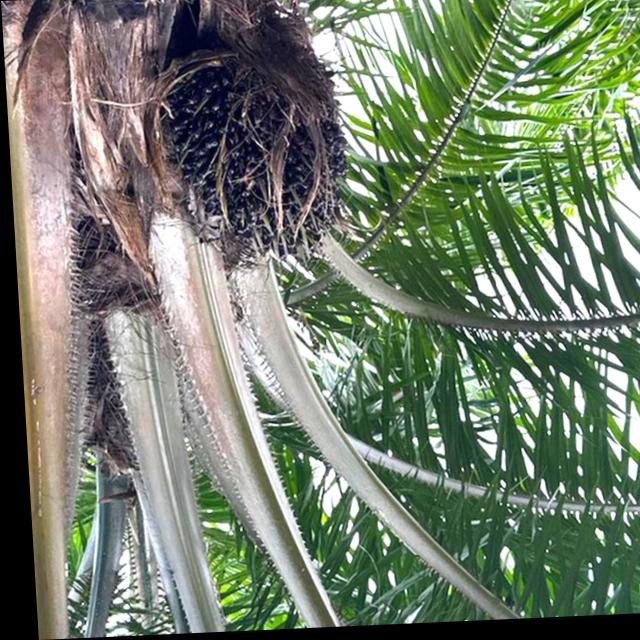unripe: (147, 35, 353, 275)
